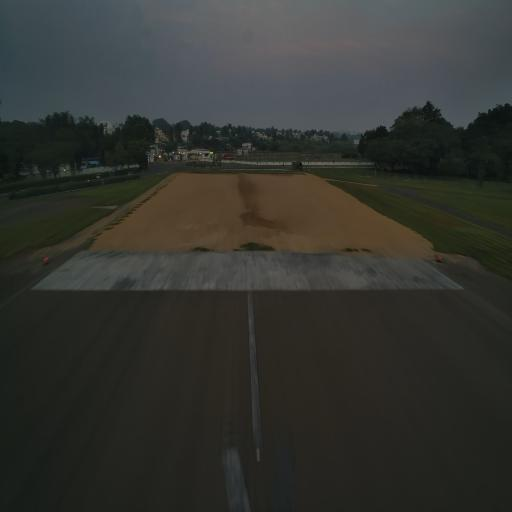on: (42, 254, 51, 266), (436, 252, 444, 263)
